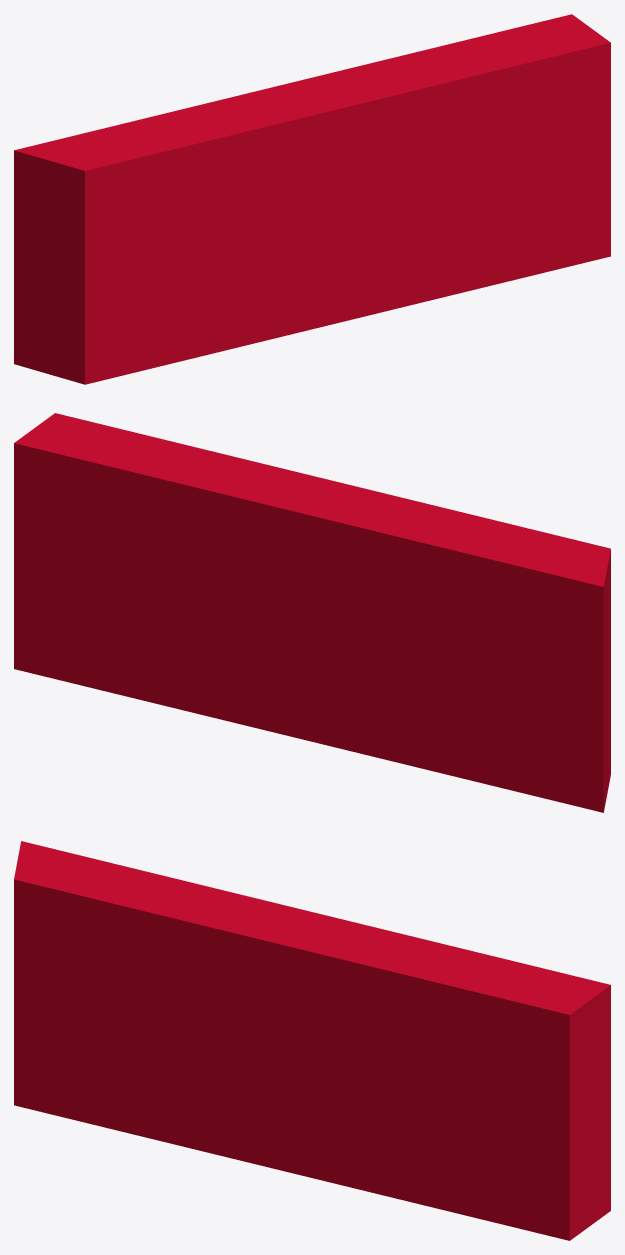
The model's file is simple_example_hole_part_27.obj.
3 renders of one model, top to bottom at view 1: azimuth 30°, elevation 25°; view 2: azimuth 150°, elevation 25°; view 3: azimuth 330°, elevation 25°, orthographic. The views are drawn at different scales.
Bounding box in the file's own units: 27.32 × 10 × 3.3.
